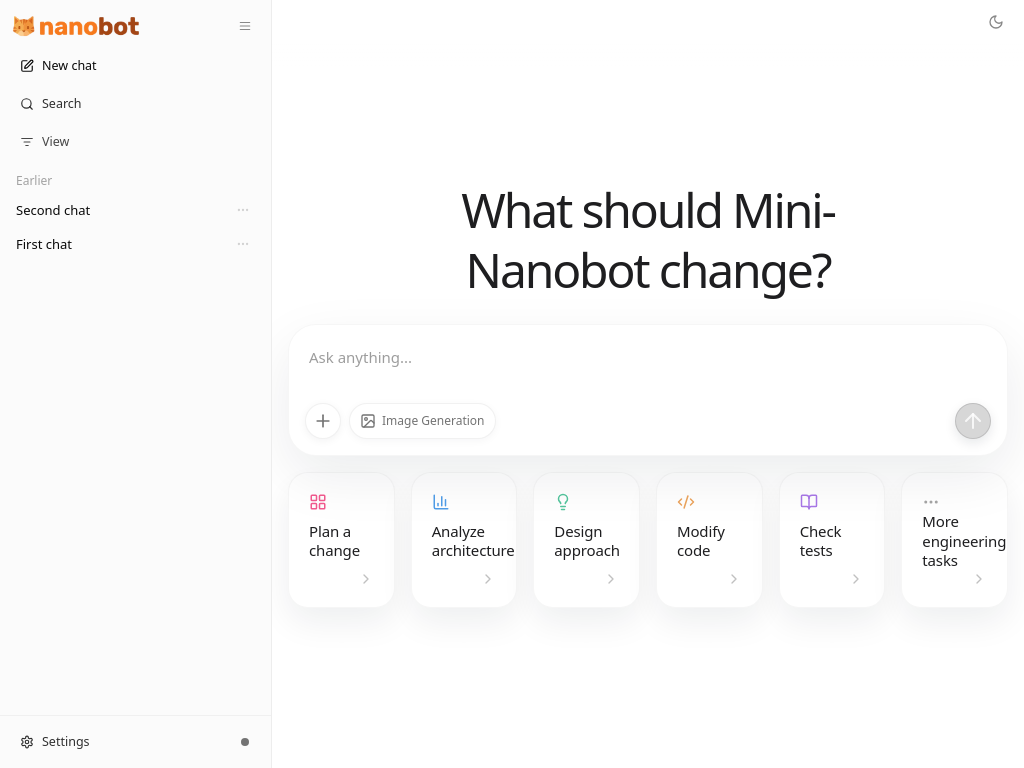
Test: App layout › returns from settings to the blank start page when no session was active
Click the button "New chat": (136, 66) [8,50,263,82]
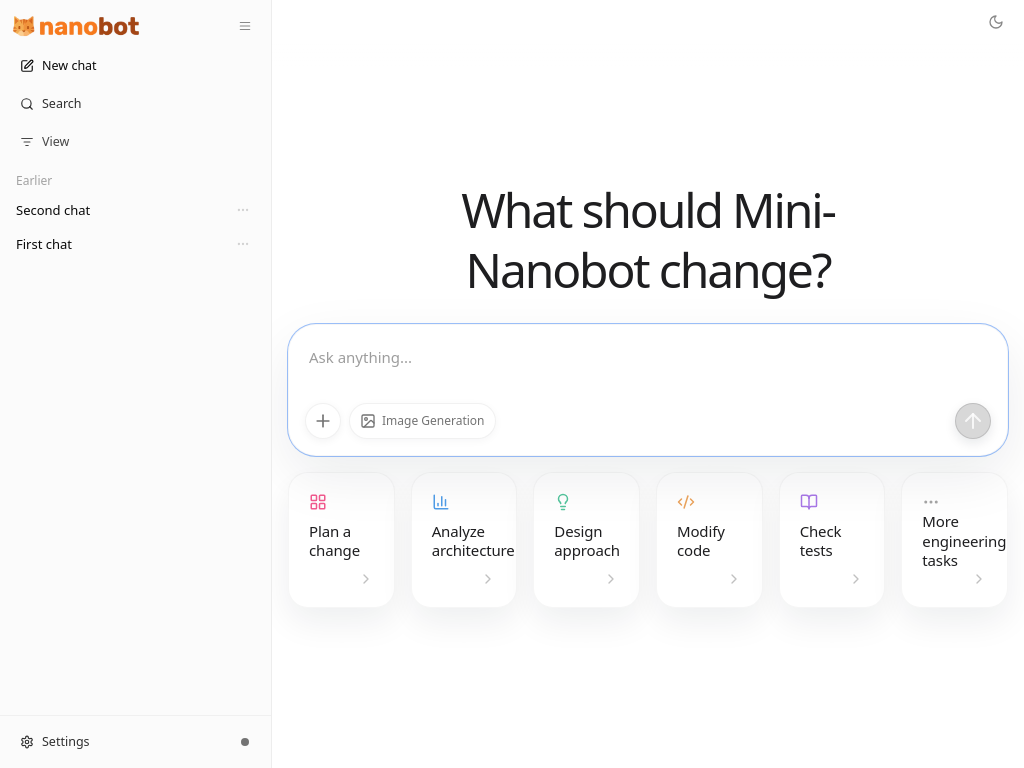
Click the button "Settings": (118, 742) [10,726,225,758]
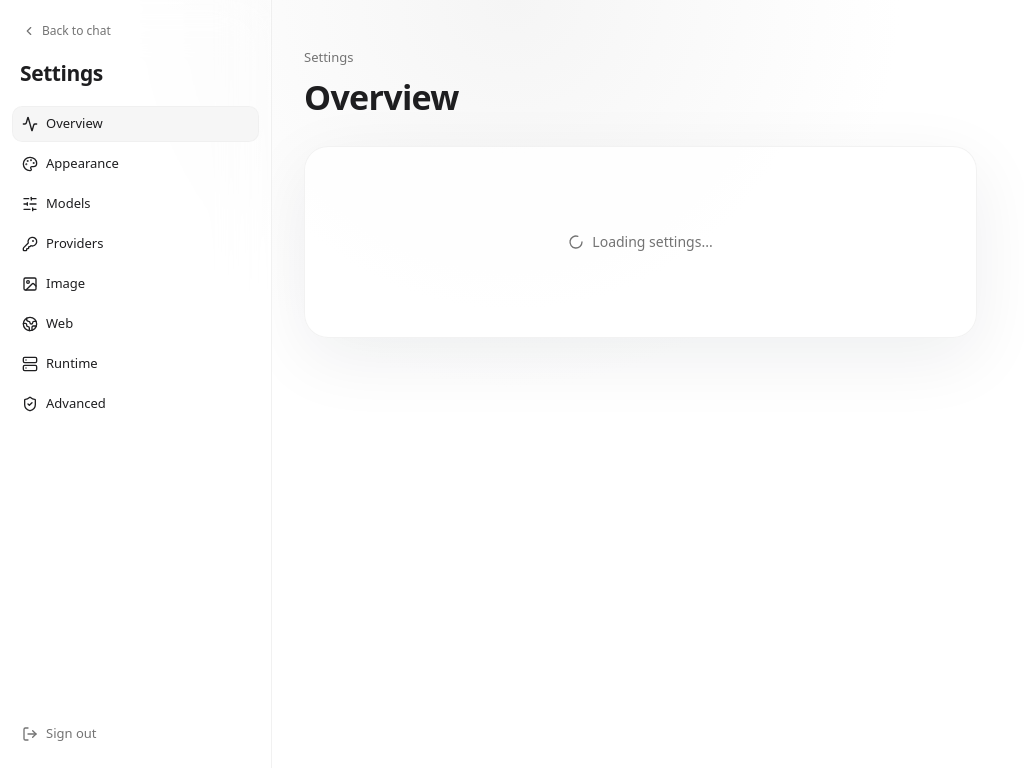
Result: the heading "Overview" is shown at [304,74,459,120]
Click the button "Back to chat": (66, 31) [12,16,121,46]
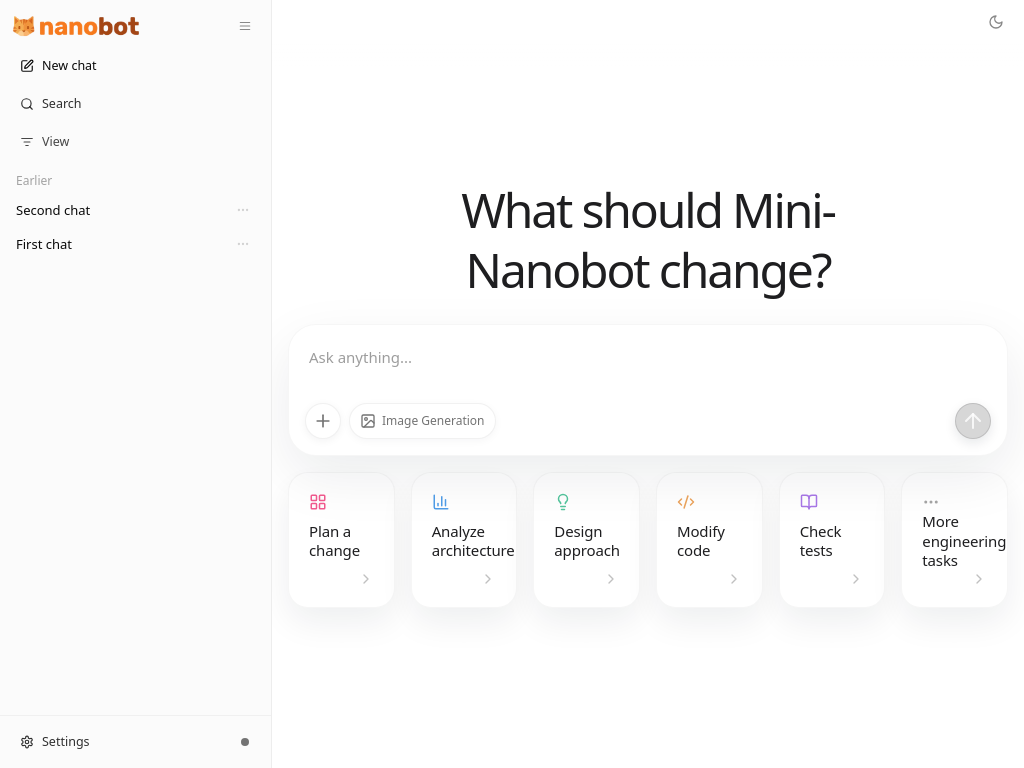
Result: the heading "What should Mini-Nanobot change?" is shown at [461,177,835,302]
